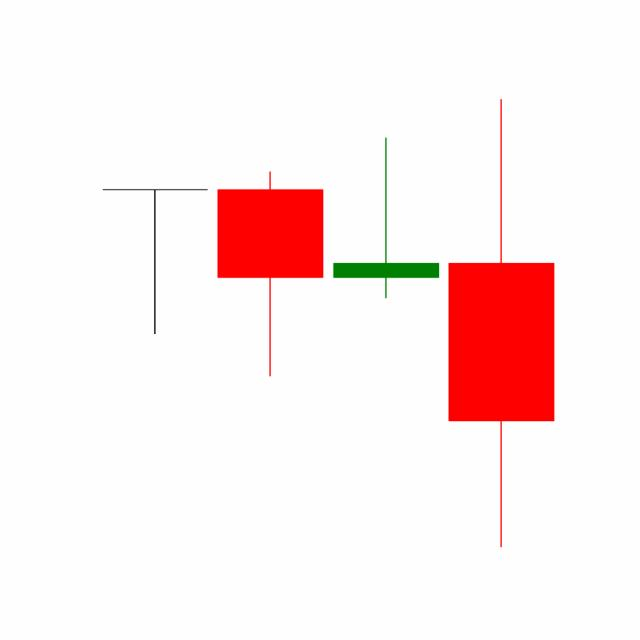Spinning Top: (328, 135, 444, 300)
